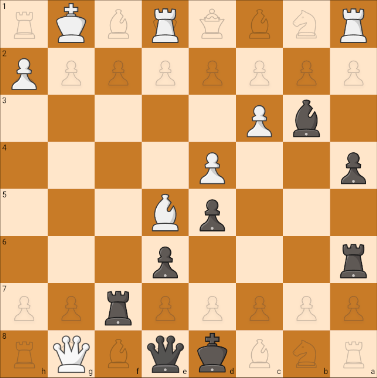bb: (287, 96, 327, 140)
bk: (193, 330, 231, 372)
bp: (191, 194, 231, 235), (145, 192, 185, 232), (147, 241, 181, 282)
bq: (145, 333, 187, 375)
br: (332, 237, 374, 280), (98, 285, 139, 327), (337, 146, 372, 187)
wk: (50, 1, 91, 46)
wp: (3, 52, 44, 92), (240, 97, 279, 138), (193, 147, 233, 186)
wq: (49, 332, 92, 373)
wr: (144, 2, 183, 44), (336, 3, 372, 46)
